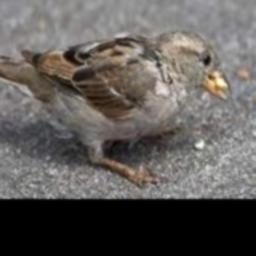Sparrow: (0, 30, 233, 187)
